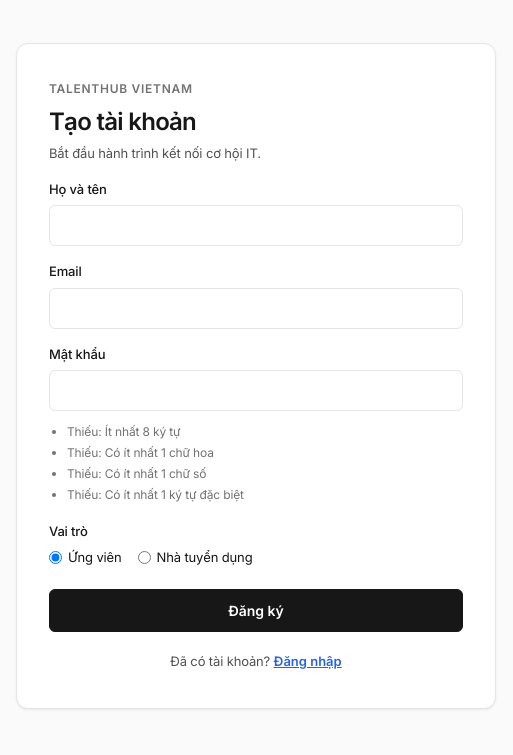
Scenario: RegisterPage › preserves valid values after a duplicate-email response
In the field labelled "Họ và tên": (256, 226) [49, 205, 463, 246], type "Test User"
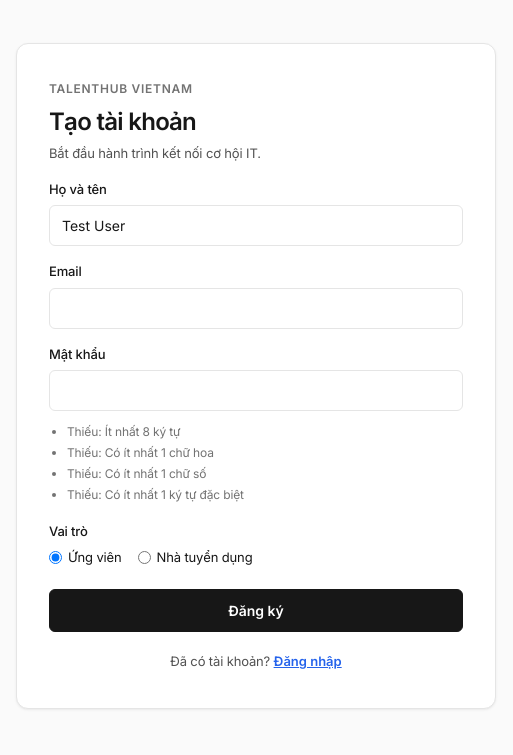
In the field labelled "Email": (256, 308) [49, 288, 463, 329], type "test@example.com"
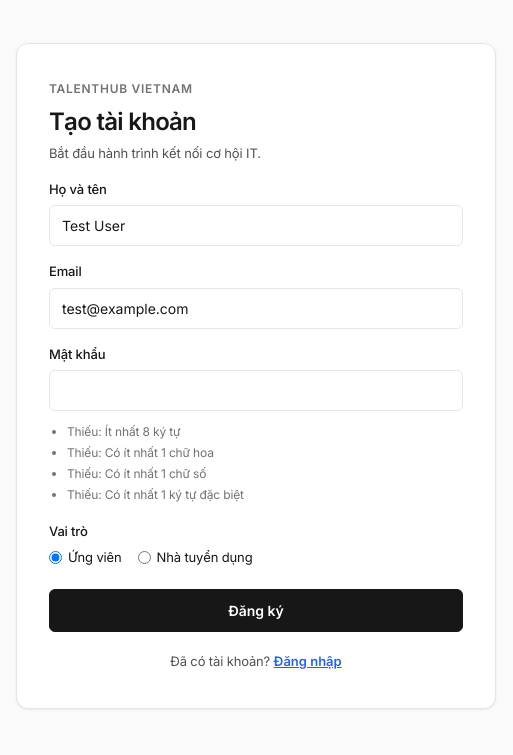
In the password field labelled "Mật khẩu": (256, 391) [49, 370, 463, 411], type "Valid123!"
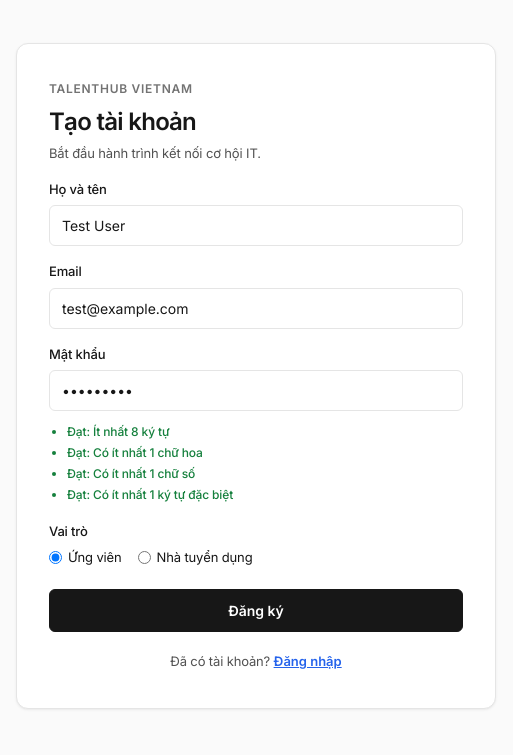
Click the button "Đăng ký": click(256, 611) [49, 589, 463, 632]
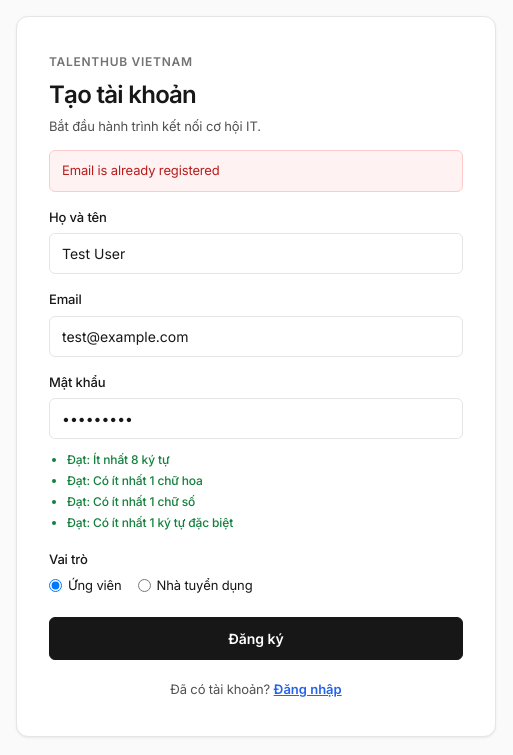
Expected: the text "Email is already registered" is shown, [49, 150, 463, 192]
